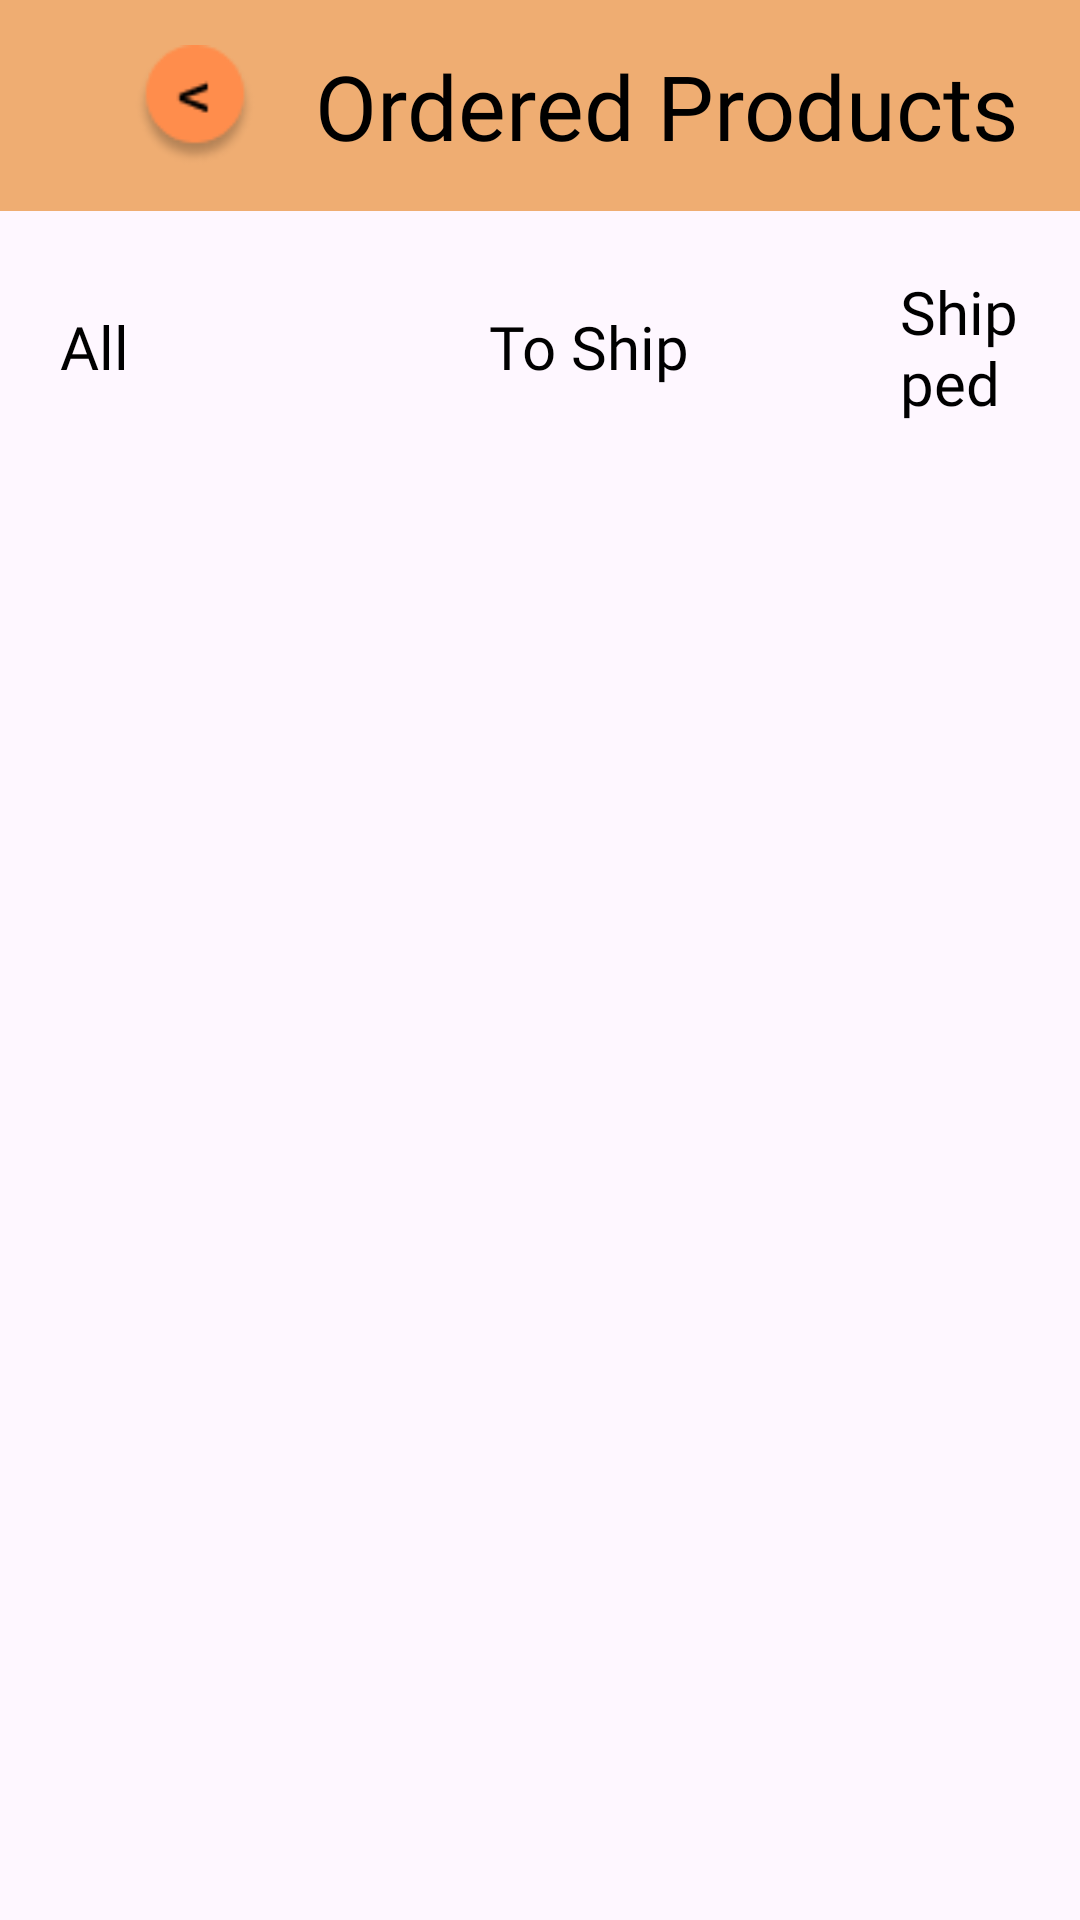

Locate icon controls on the screen. Image size 1080*1920, boxes as (x1, y1, x2, y2).
back: (146, 45, 244, 155)
